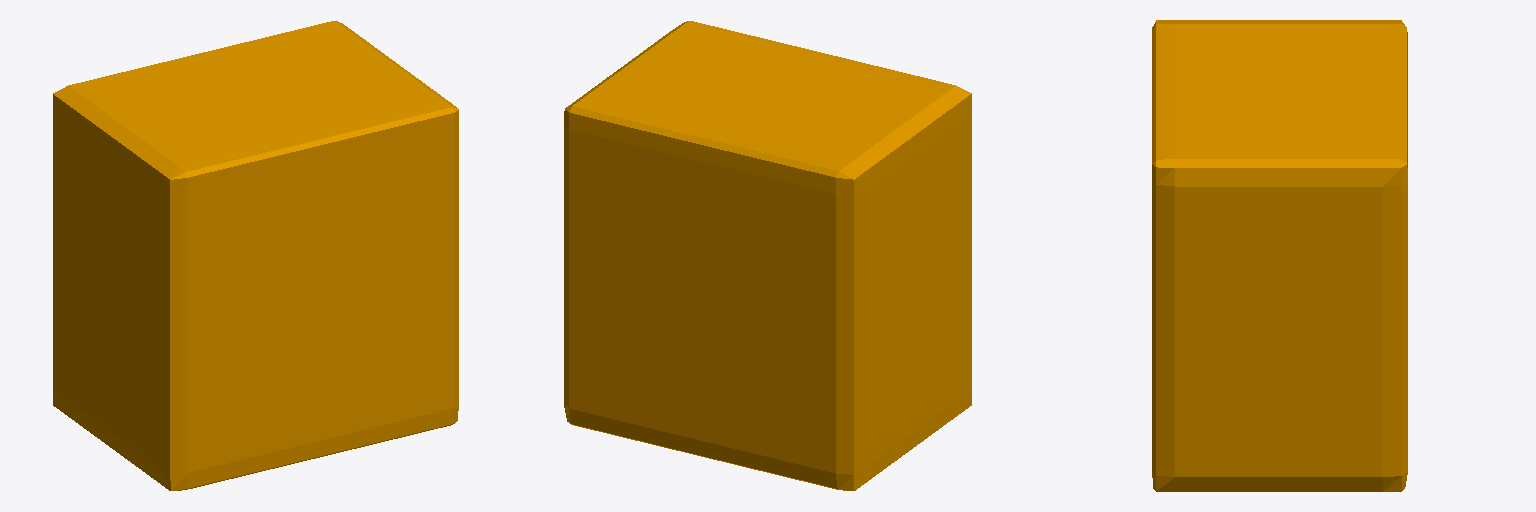
URDF robot description (cylinder_box_138):
<?xml version="1.0" encoding="utf-8"?>  <robot name="cylinder_box_138">   <link name="cylinder_box_138">     <visual>       <geometry>         <mesh filename="../meshes/box/box_138.stl" scale="1 1 1"/>       </geometry>     </visual>     <collision>       <geometry>         <mesh filename="../meshes/box/box_138.stl" scale="1 1 1"/>       </geometry>     </collision>     <inertial>        <origin         xyz="0 0 0"         rpy="0 0 0" />       <mass value="0.6122990581426772"/>       <origin rpy="0 0 0" xyz="0 0 0"/>       <inertia ixx="0.0007117476469963687" ixy="-1.9783667807356105e-07" ixz="-3.173690045922173e-07" iyy="0.0009204543804322246" iyz="-1.2897721436545913e-07" izz="0.0006750985855096081"/>     </inertial>   </link>  </robot>

--- Render facts (derived) ---
The picture shows the robot from 3 angles, left to right: view 1: azimuth 30°, elevation 25°; view 2: azimuth 150°, elevation 25°; view 3: azimuth 270°, elevation 25°; orthographic projection.
Robot: cylinder_box_138 — 1 links, 0 joints (none); root link cylinder_box_138; default pose: all joints at 0.
Visible links, largest first — view 1: cylinder_box_138; view 2: cylinder_box_138; view 3: cylinder_box_138.
Link boxes in pixels (x1,y1,x2,y2): cylinder_box_138: (53, 21, 458, 490); cylinder_box_138: (564, 21, 971, 490); cylinder_box_138: (1152, 20, 1407, 491).
Bounding box of the posed robot: 0.0935 × 0.0679 × 0.0971 m (x, y, z).
Meshes: 1 distinct files referenced, 1 mesh visuals loaded (1 binary STL).